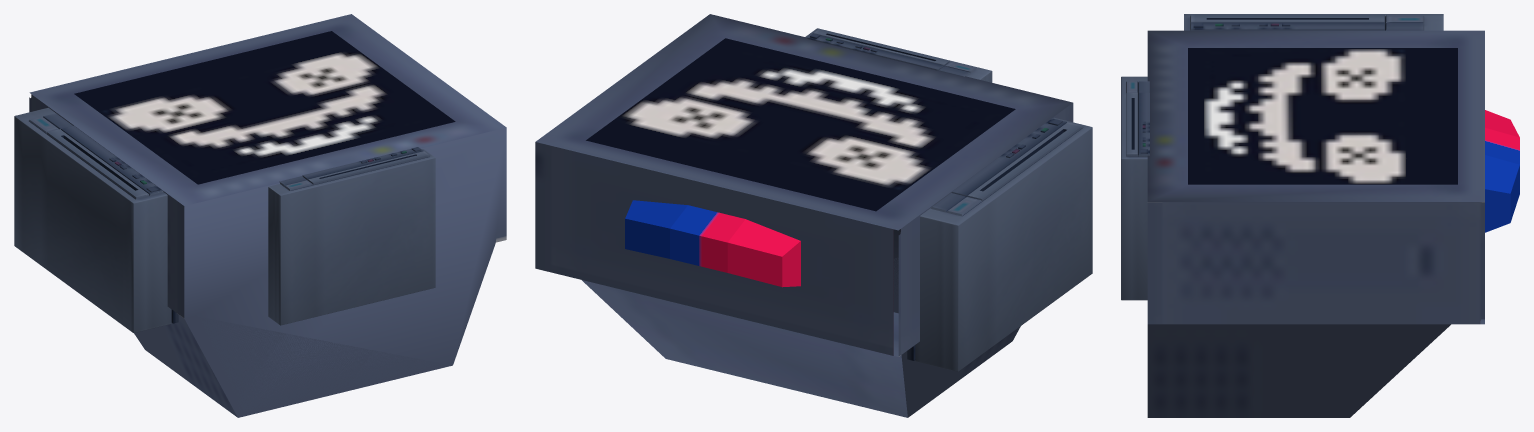
Rendered from BlueScreen.fbx.
3 renders of one model, left to right at view 1: azimuth 30°, elevation 25°; view 2: azimuth 150°, elevation 25°; view 3: azimuth 270°, elevation 25°, orthographic. The views are drawn at different scales.
Visible parts, largest first — view 1: Blue; view 2: Blue; view 3: Blue.
Boxes of the visible parts, bbox=[...] form: Blue: bbox=[14, 14, 506, 417]; Blue: bbox=[535, 14, 1092, 417]; Blue: bbox=[1121, 14, 1519, 417].
Size of the model in its own units: 1870 by 1137 by 1666.
1 material, 1 textured.
